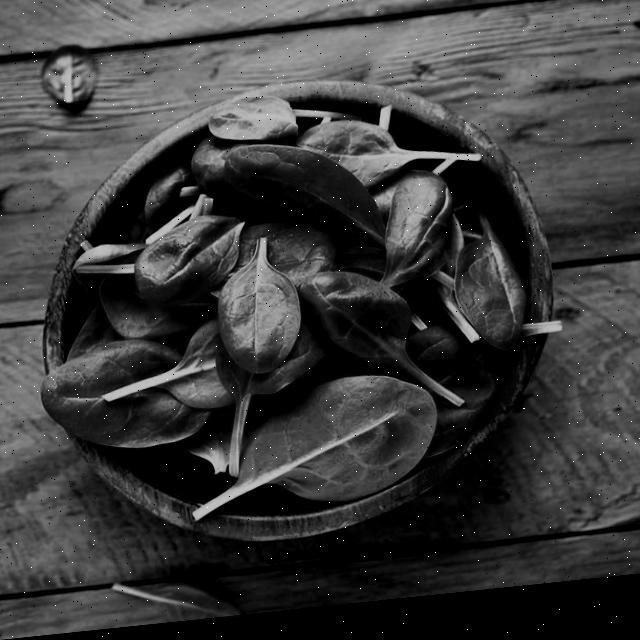Spinach: (22, 67, 564, 547)
